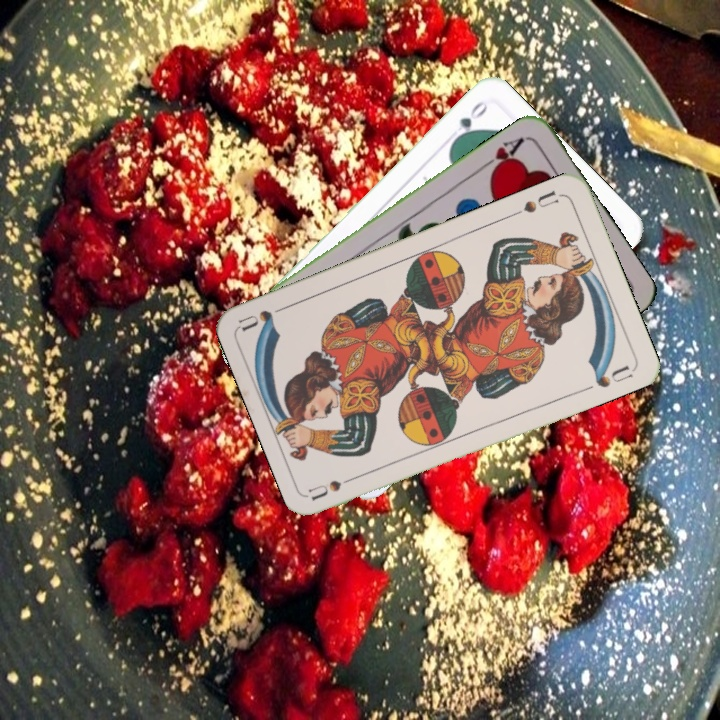GO: (448, 97, 492, 146)
HA: (477, 132, 527, 179)
SU: (306, 470, 365, 503), (508, 186, 561, 219)
